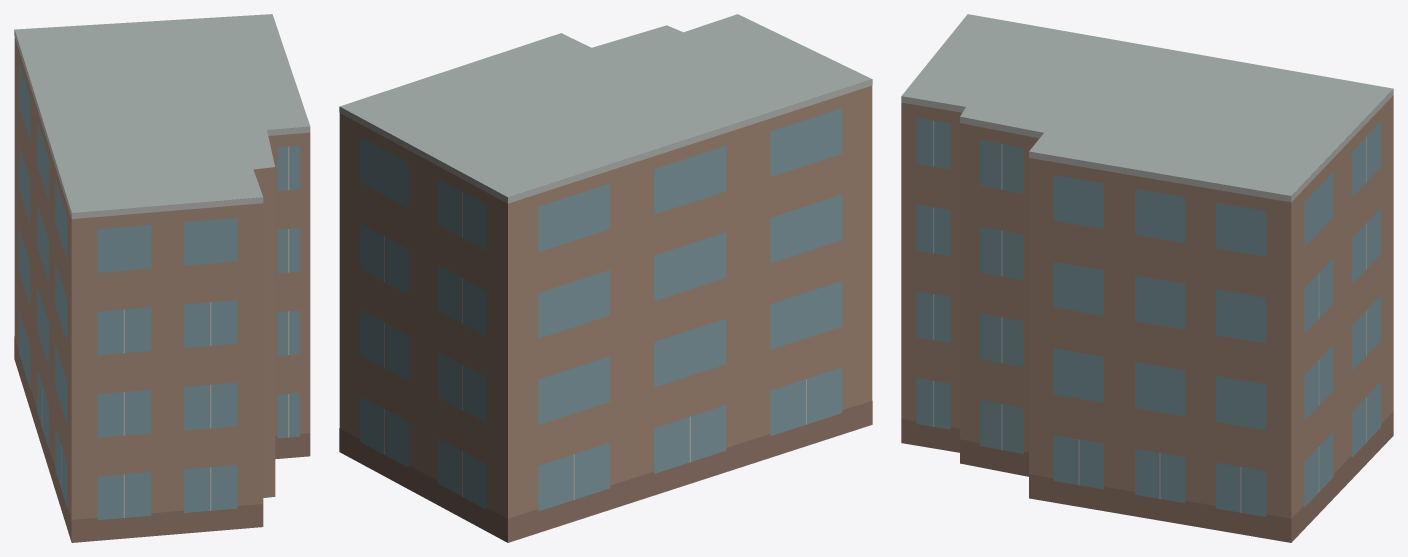
File: survey-upis-32995590.glb
The picture shows the model from 3 angles, left to right: view 1: azimuth 30°, elevation 25°; view 2: azimuth 150°, elevation 25°; view 3: azimuth 270°, elevation 25°; orthographic projection. The views are drawn at different scales.
Visible parts, largest first — view 1: survey-upis-32995590.tmp; view 2: survey-upis-32995590.tmp; view 3: survey-upis-32995590.tmp.
Part boxes in pixels (x1,y1,x2,y2): survey-upis-32995590.tmp: (14, 14, 310, 542); survey-upis-32995590.tmp: (339, 14, 872, 542); survey-upis-32995590.tmp: (901, 14, 1393, 542).
Bounding box in the file's own units: 14.86 × 13.2 × 16.99.
